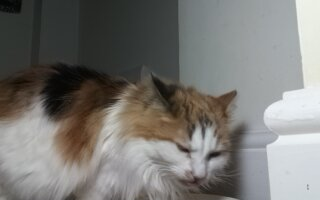clara: (3, 62, 250, 195)
